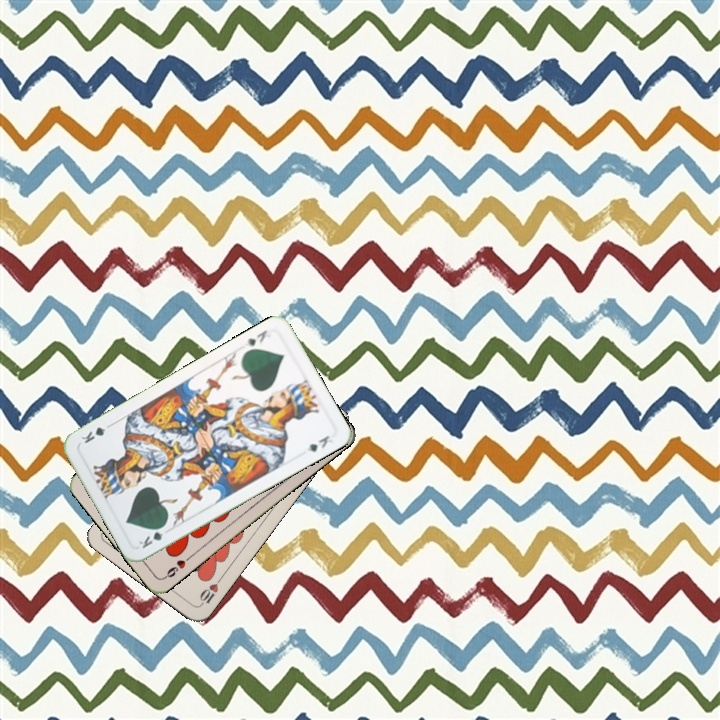GK: (135, 521, 169, 551), (241, 326, 270, 350)
H10: (195, 573, 225, 608)
H9: (159, 552, 194, 581)
